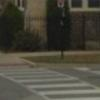crosswalks: (1, 68, 100, 100)
